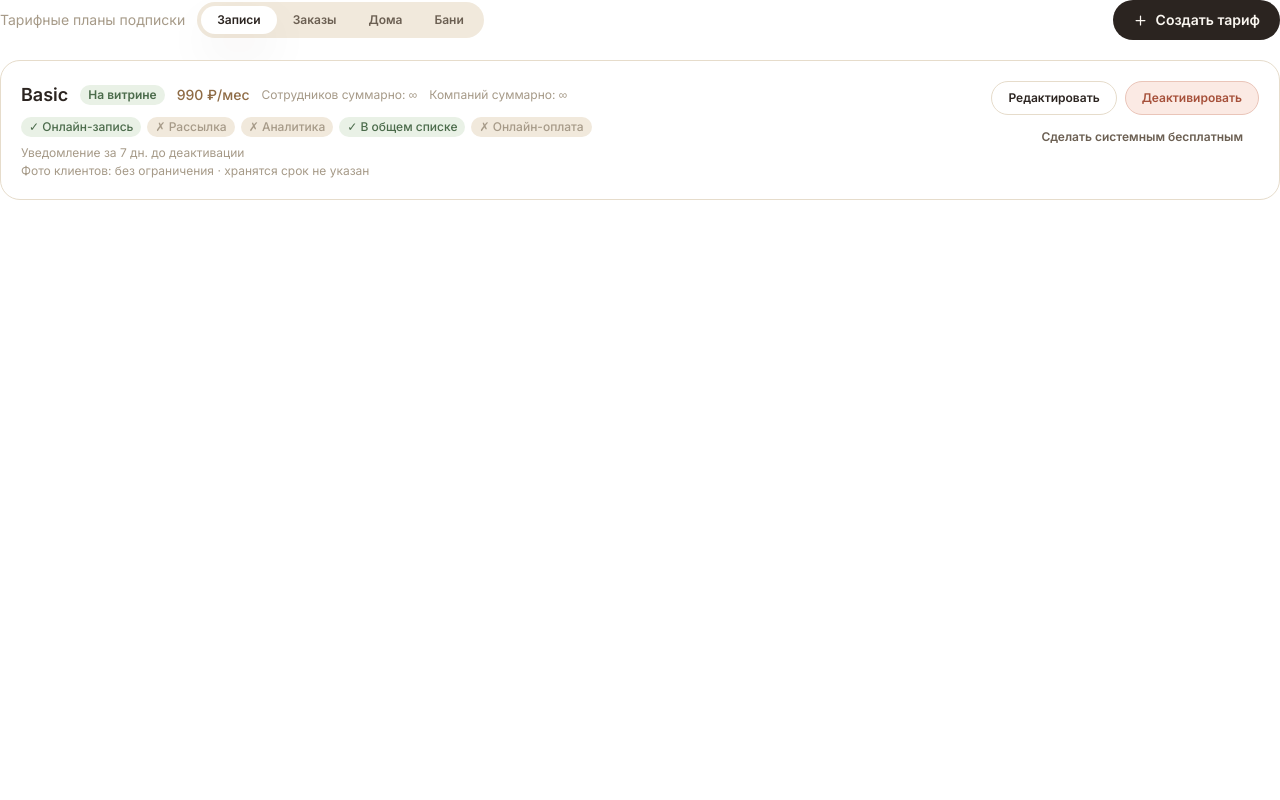
Scenario: PlansTab — messengers are not a plan feature (cycle 43, US-43-02) › replaces the whole matrix with the note when only messengers are left, and still drops them if the messenger answer failed
Click the button "Редактировать". click: click(1054, 98)
box: [992, 81, 1117, 115]
(page scrolled)
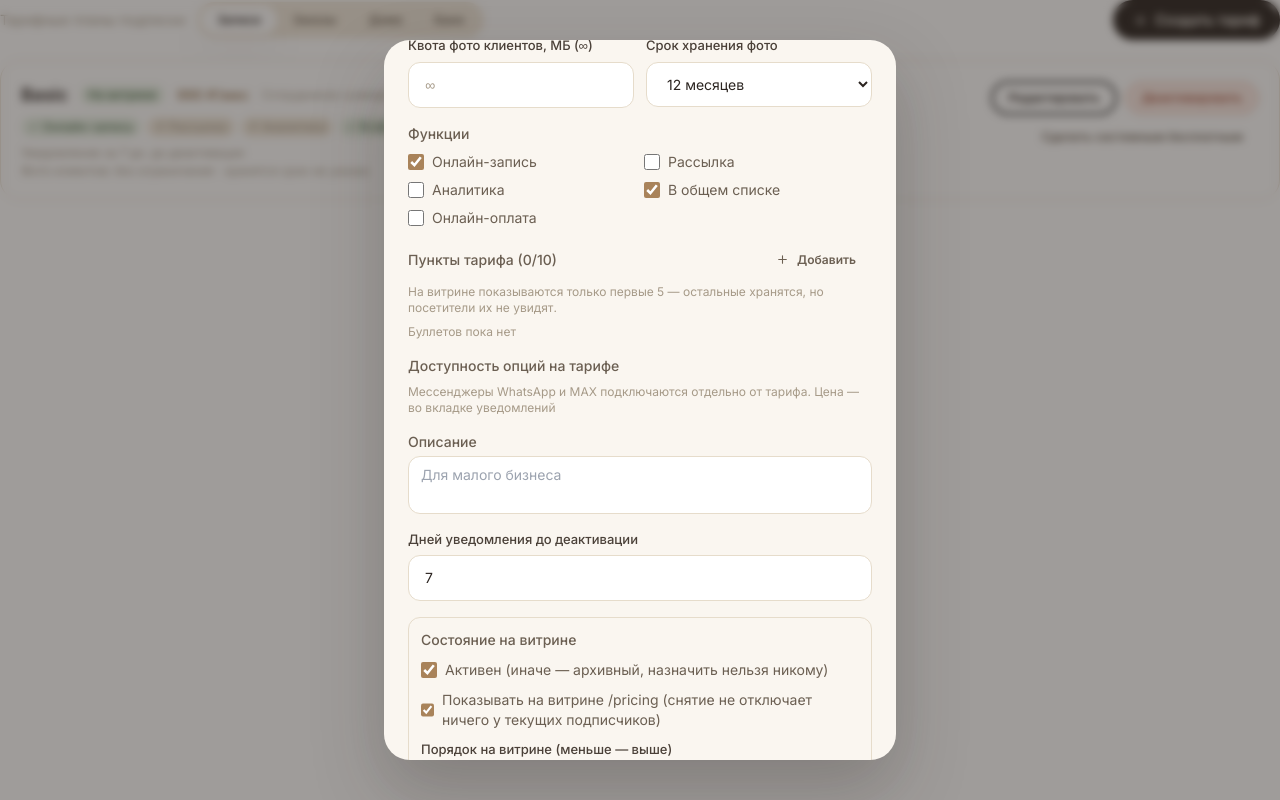
expect the text "Мессенджеры WhatsApp и MAX подключаются отдельно от тарифа. Цена — во вкладке уведомлений" is shown: met, box [408, 384, 859, 415]
